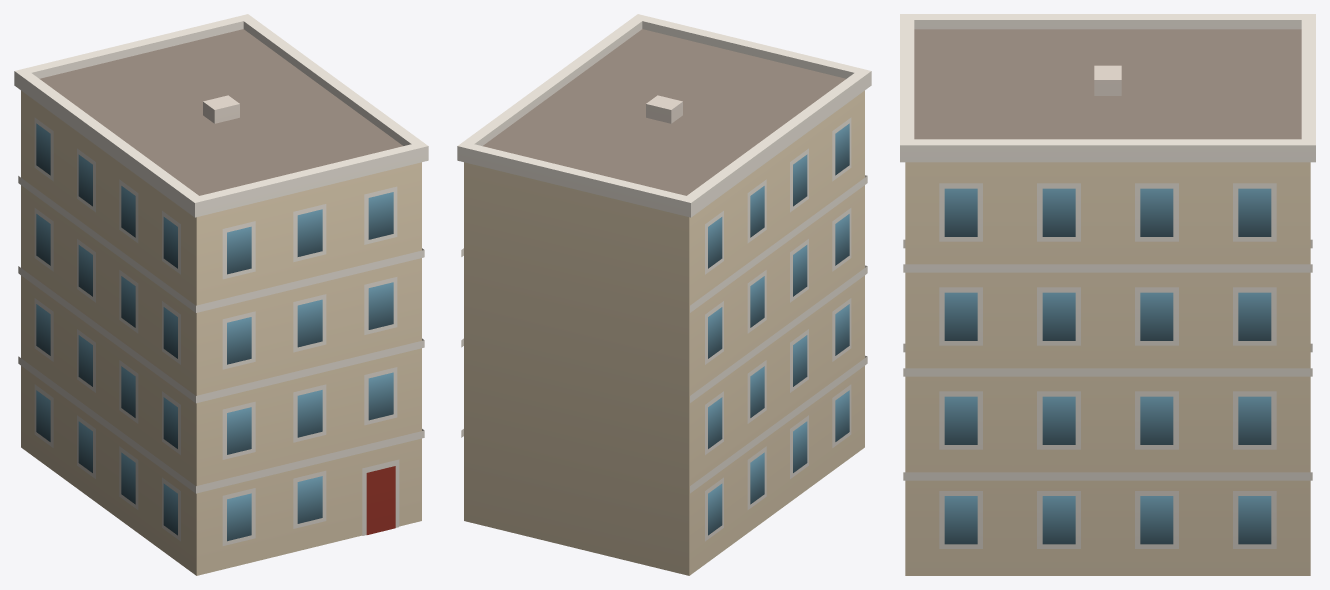
Rendered from vee_rightb6_far.glb.
3 views of the same model, side by side, from view 1: azimuth 30°, elevation 25°; view 2: azimuth 150°, elevation 25°; view 3: azimuth 270°, elevation 25° (orthographic). The views are drawn at different scales.
Visible parts, largest first — view 1: vee_rightb6_far; view 2: vee_rightb6_far; view 3: vee_rightb6_far.
Part boxes in pixels (box(x1,y1,x2,y2)): vee_rightb6_far: box(14, 14, 428, 575); vee_rightb6_far: box(457, 14, 871, 575); vee_rightb6_far: box(900, 14, 1315, 575).
Bounding box in the file's own units: 9.21 × 14.37 × 12.32.
Materials: 1 (1 with a texture image).
